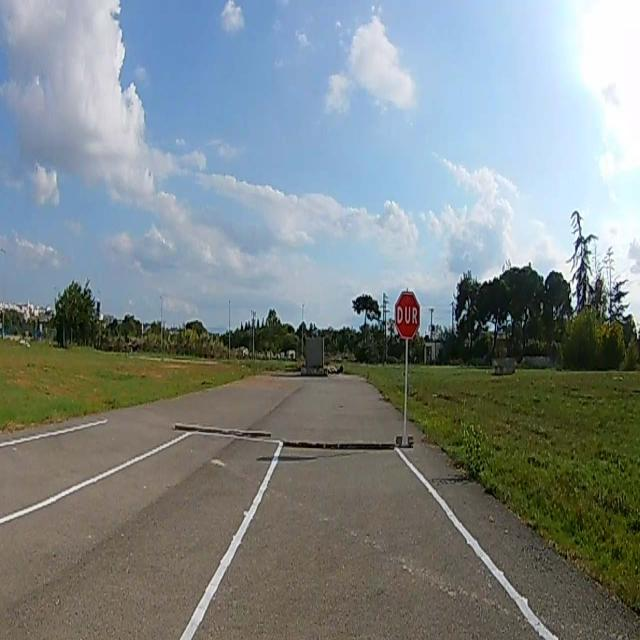dur: (394, 292, 419, 337)
